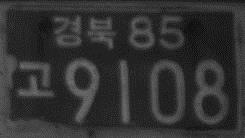0: (147, 58, 186, 125)
1: (115, 57, 133, 125)
5: (159, 13, 185, 51)
8: (192, 56, 229, 125), (128, 14, 156, 49)
9: (64, 57, 101, 124)
경북_O: (52, 13, 116, 49)
고: (15, 59, 55, 98)
